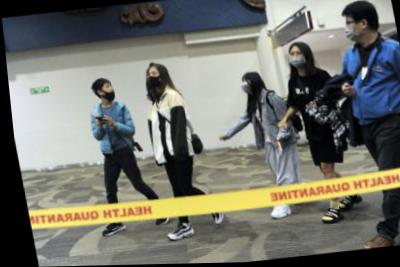OK: (342, 18, 360, 44), (144, 70, 161, 88), (239, 78, 251, 95)
WRONG: (286, 49, 307, 71), (100, 83, 114, 102)
